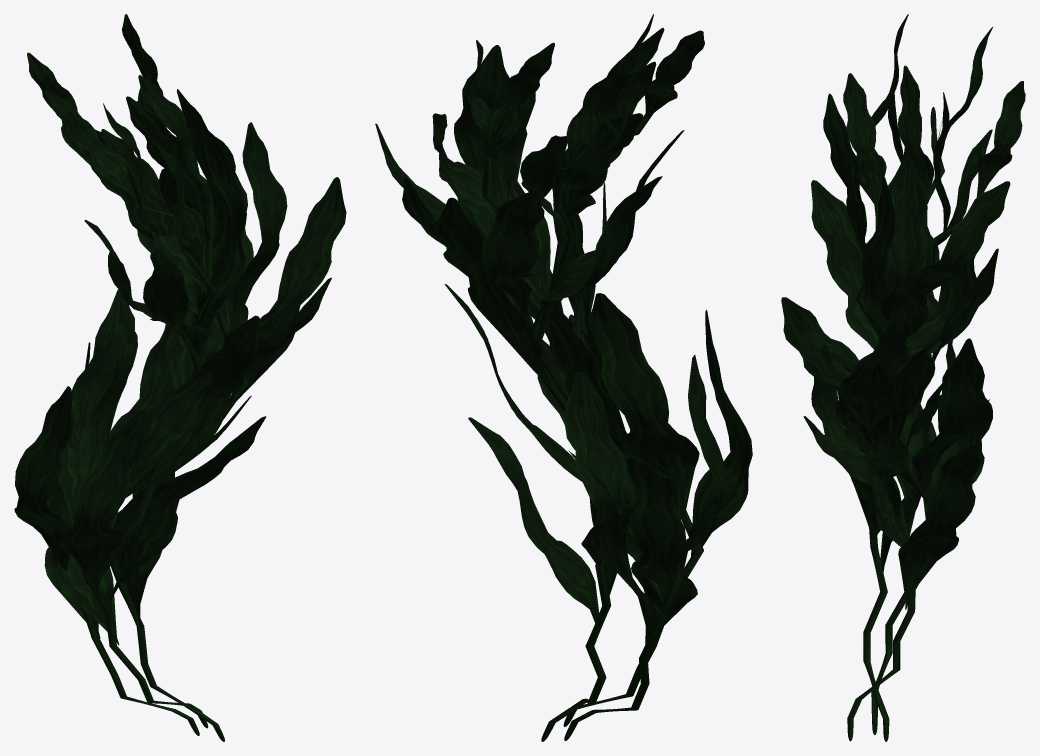
3 renders of one model, left to right at view 1: azimuth 30°, elevation 25°; view 2: azimuth 150°, elevation 25°; view 3: azimuth 270°, elevation 25°, orthographic. The views are drawn at different scales.
Visible parts, largest first — view 1: WiggleSeaweed; view 2: WiggleSeaweed; view 3: WiggleSeaweed.
Boxes of the visible parts, box(x1,y1,x2,y2) form: WiggleSeaweed: box(14, 14, 346, 741); WiggleSeaweed: box(375, 14, 752, 741); WiggleSeaweed: box(781, 14, 1025, 741).
Size of the model in its own units: 0.9791 by 2 by 0.6754.
1 material, 1 textured.
